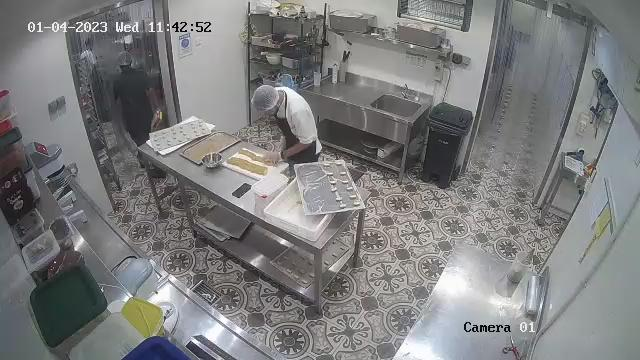apron: (274, 93, 316, 161)
